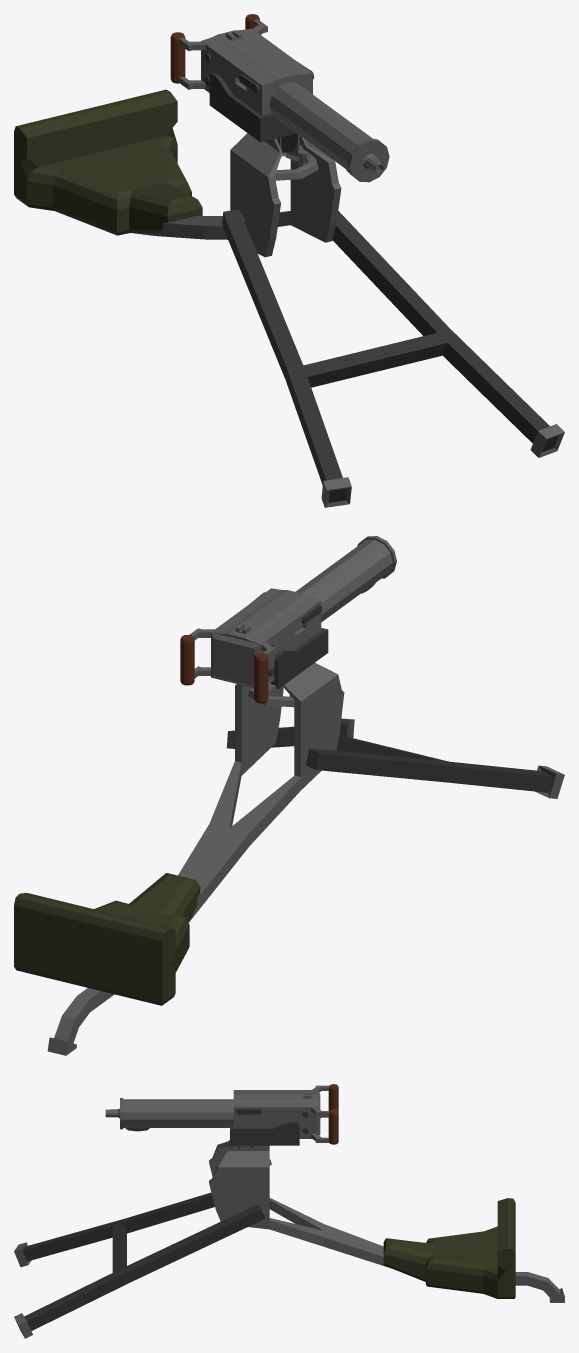
The model's file is Mounted Machine Gun.fbx.
3 renders of one model, top to bottom at view 1: azimuth 30°, elevation 25°; view 2: azimuth 150°, elevation 25°; view 3: azimuth 270°, elevation 25°, orthographic. The views are drawn at different scales.
Parts seen in each view (by area): view 1: Field Mount, Mount Legs, Mounted Machine Gun, Mount; view 2: Field Mount, Mounted Machine Gun, Mount Legs; view 3: Field Mount, Mounted Machine Gun, Mount Legs.
Boxes of the visible parts, left/top/right/bottom form: Field Mount: left=14, top=89, right=341, bottom=257; Mount Legs: left=222, top=209, right=564, bottom=507; Mounted Machine Gun: left=170, top=14, right=389, bottom=182; Mount: left=275, top=149, right=318, bottom=180; Field Mount: left=14, top=662, right=344, bottom=1055; Mounted Machine Gun: left=180, top=536, right=396, bottom=703; Mount Legs: left=226, top=718, right=564, bottom=798; Field Mount: left=209, top=1140, right=564, bottom=1302; Mounted Machine Gun: left=105, top=1084, right=338, bottom=1148; Mount Legs: left=14, top=1192, right=265, bottom=1338.
Size of the model in its own units: 316 by 376 by 918.
